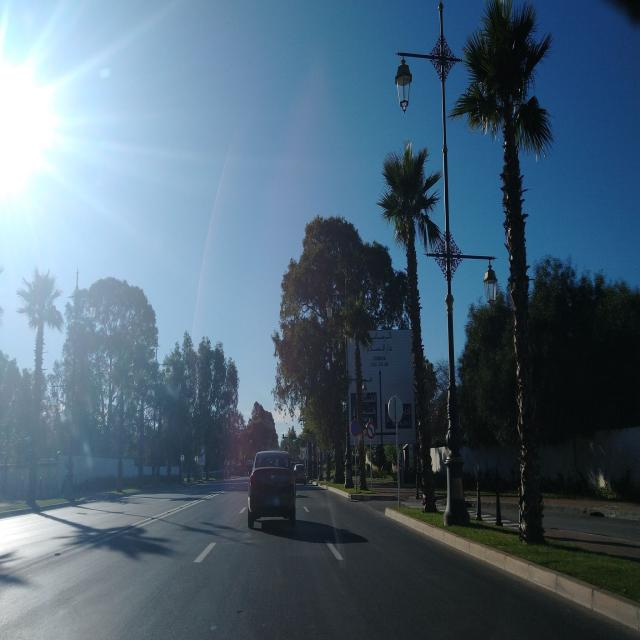forb_stopping: (350, 420, 360, 438)
